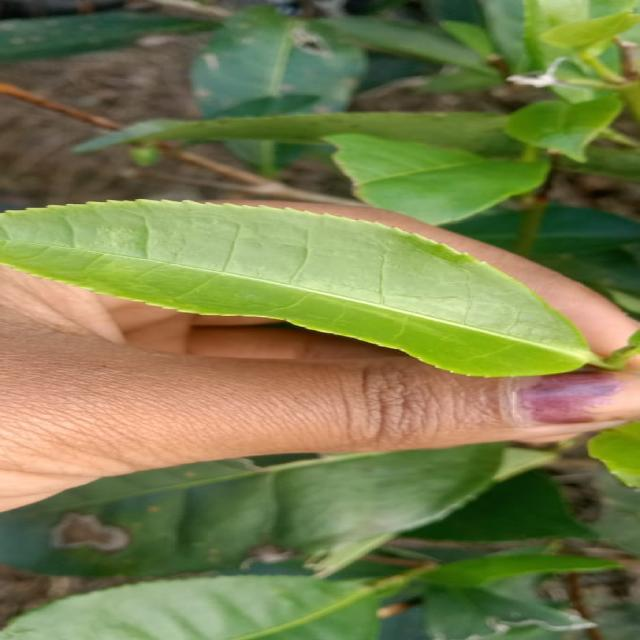Category B 2-4 days: (0, 186, 615, 380)
